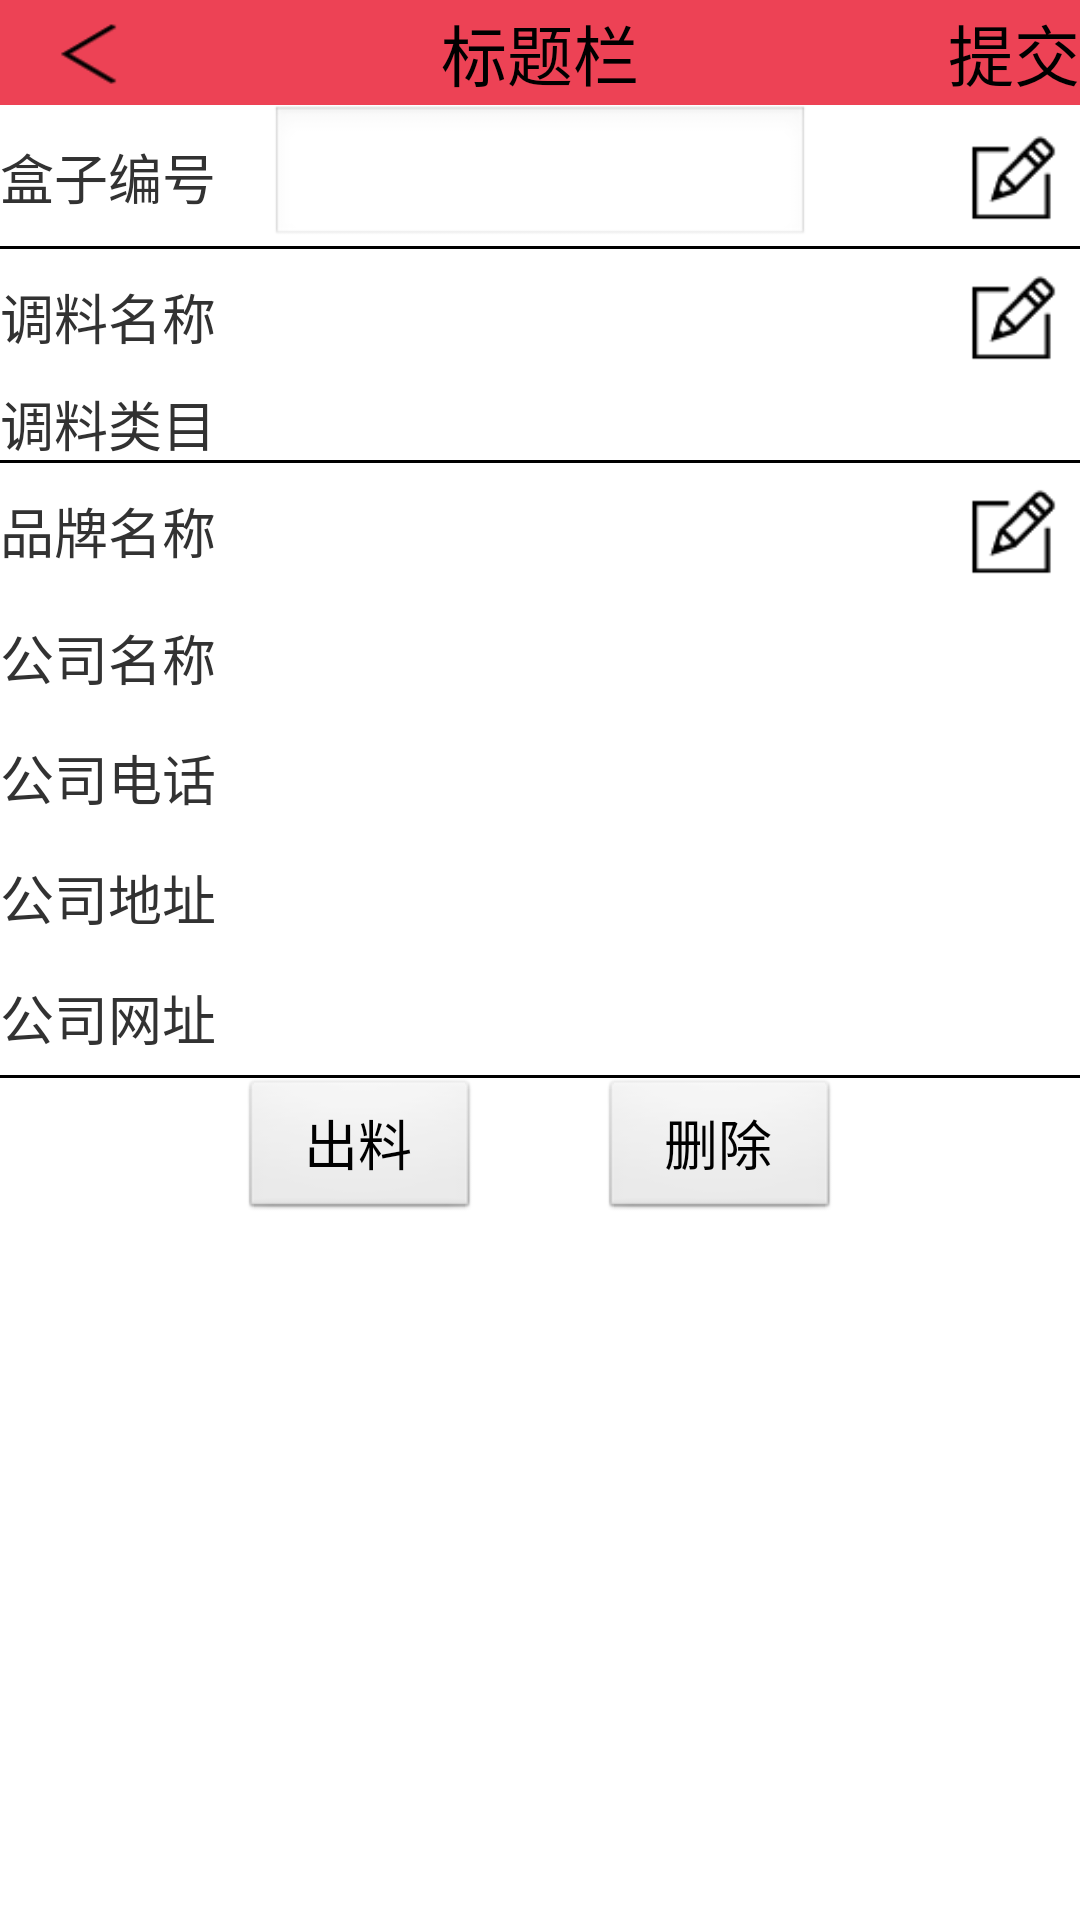

Named icons in this screenshot (1080x1920) and their centers, (x,y):
back arrow: (88,54)
